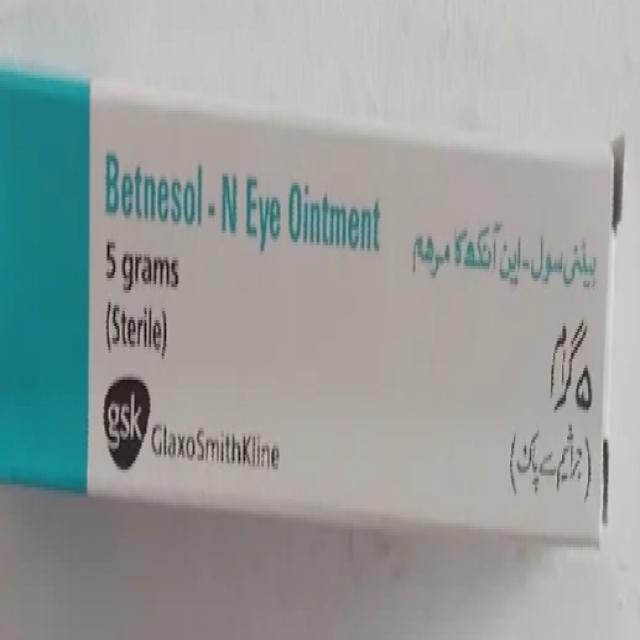drug-name: (103, 152, 384, 258)
